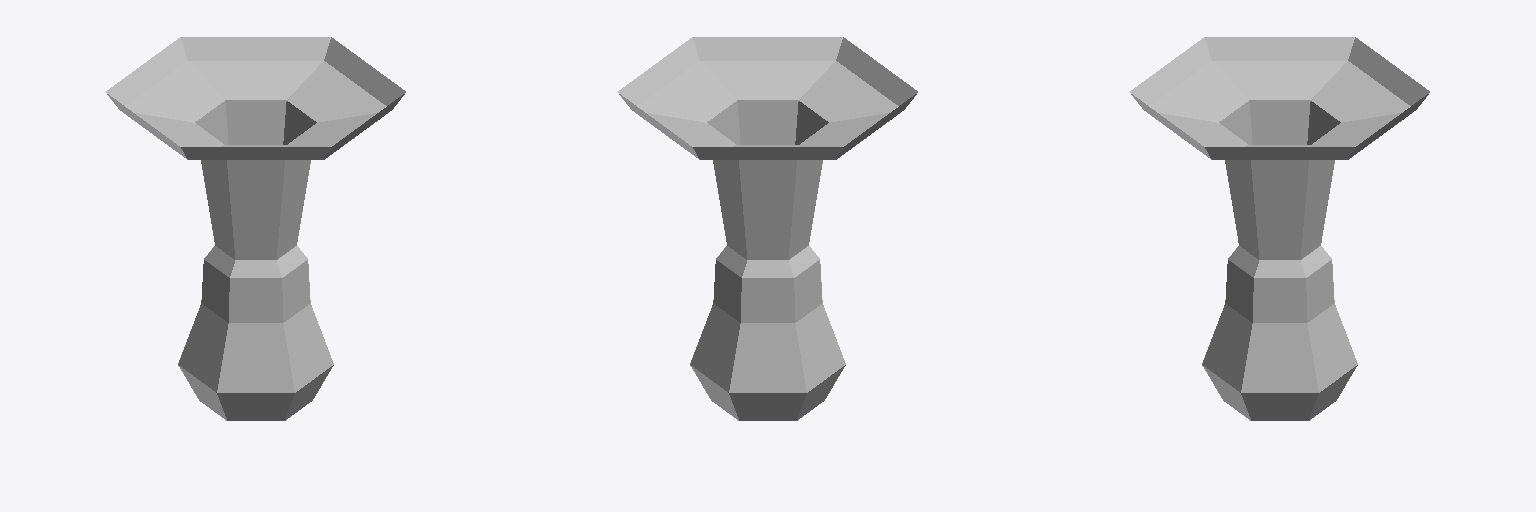
Rendered from lightbulb.obj.
3 renders of one model, left to right at view 1: azimuth 30°, elevation 25°; view 2: azimuth 150°, elevation 25°; view 3: azimuth 270°, elevation 25°, orthographic.
Visible parts, largest first — view 1: Cylinder; view 2: Cylinder; view 3: Cylinder.
Boxes of the visible parts, <box> form: Cylinder: <box>106,37,405,420</box>; Cylinder: <box>618,37,917,420</box>; Cylinder: <box>1130,37,1429,420</box>.
Size of the model in its own units: 0.5014 by 0.6952 by 0.5789.